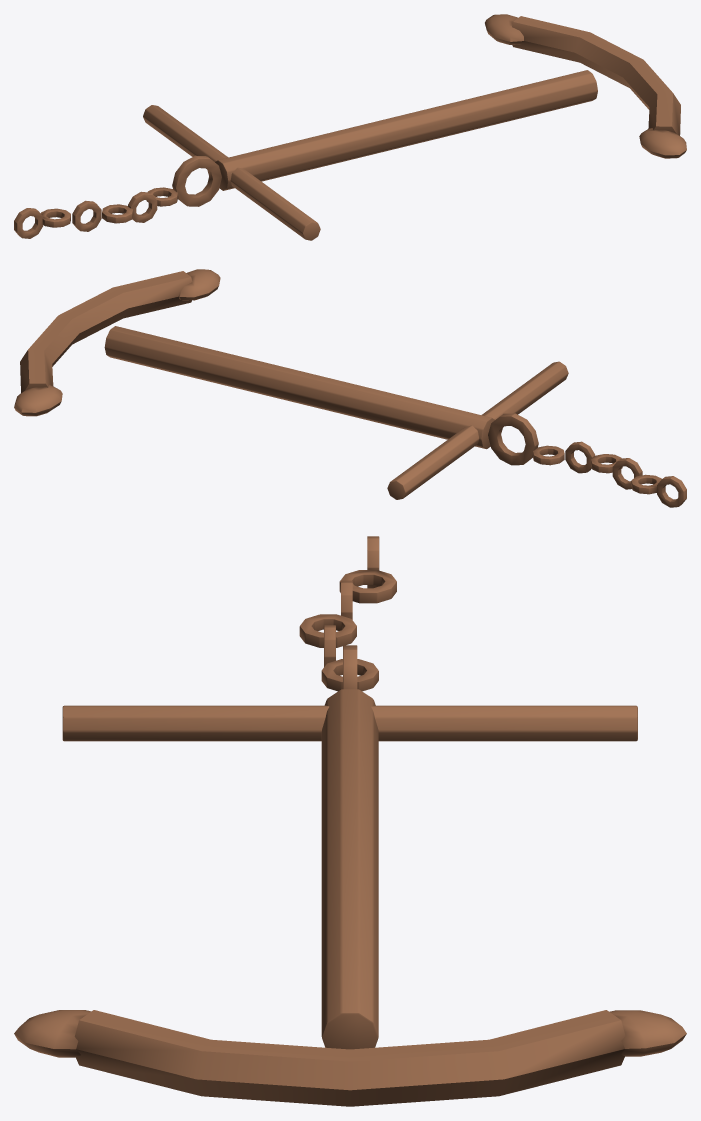
Rendered from anchor.glb.
3 views of the same model, one above another, from view 1: azimuth 30°, elevation 25°; view 2: azimuth 150°, elevation 25°; view 3: azimuth 270°, elevation 25° (orthographic). The views are drawn at different scales.
Parts seen in each view (by area): view 1: boat_rust; view 2: boat_rust; view 3: boat_rust.
Boxes of the visible parts, x1=… form: boat_rust: x1=14, y1=14, x2=686, y2=240; boat_rust: x1=14, y1=269, x2=686, y2=507; boat_rust: x1=14, y1=536, x2=686, y2=1106.
Bounding box in the file's own units: 2.72 × 0.1995 × 1.4.
